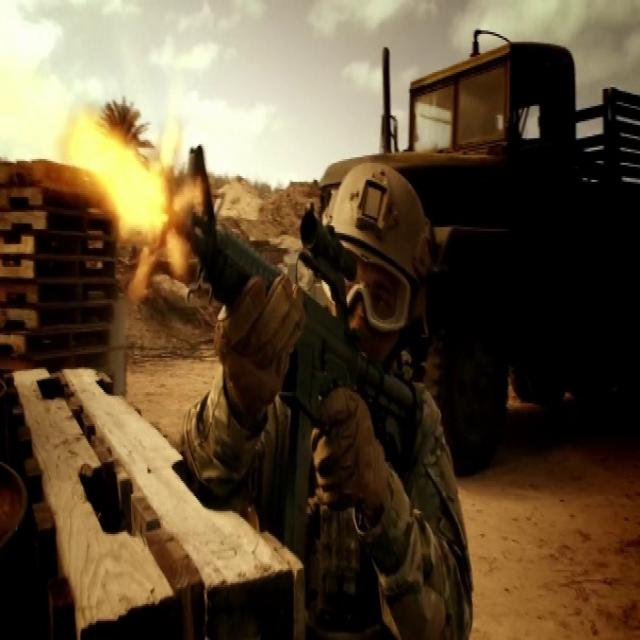rifle: (168, 194, 424, 580)
